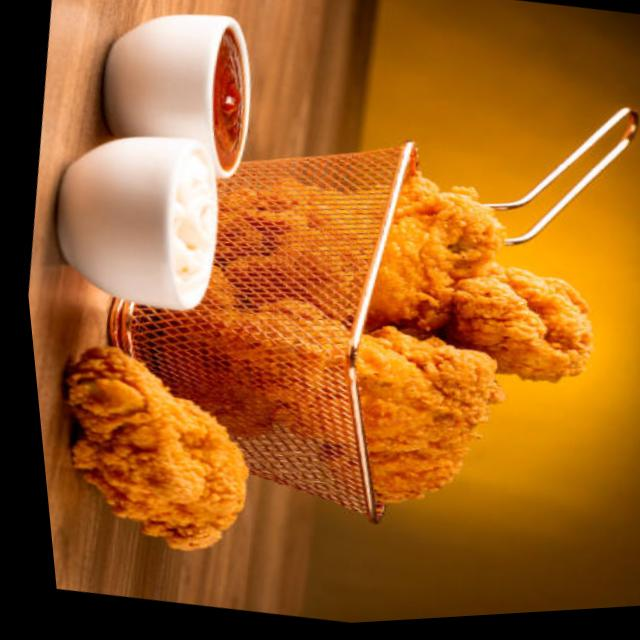CHICKEN FRY: (356, 165, 593, 504), (68, 345, 251, 551)
SAUCE: (166, 153, 215, 285), (213, 27, 247, 165)
